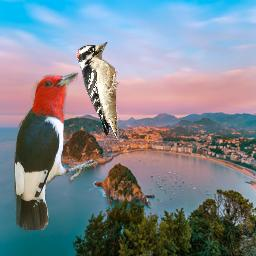Woodpecker: (13, 72, 99, 230), (76, 42, 120, 140)
